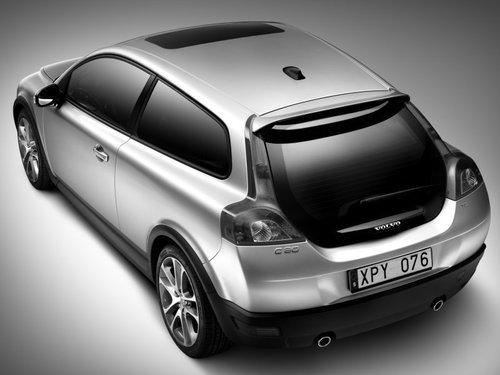car: (13, 21, 493, 362)
